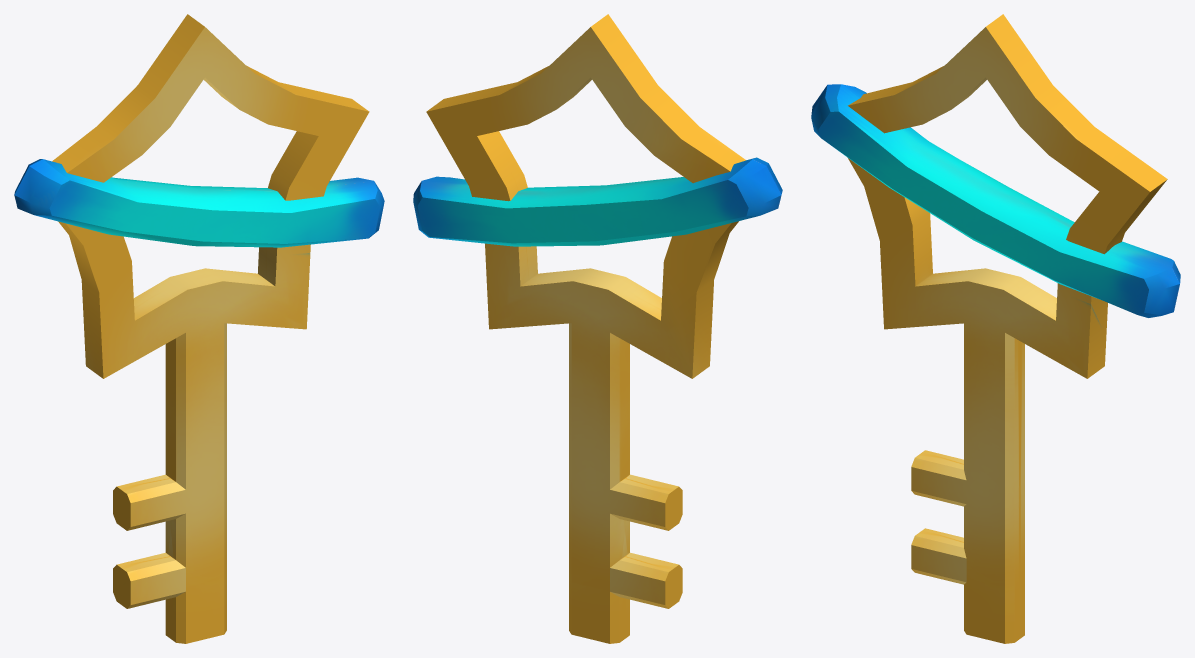
The model's file is Key.fbx.
The picture shows the model from 3 angles, left to right: view 1: azimuth 30°, elevation 25°; view 2: azimuth 150°, elevation 25°; view 3: azimuth 330°, elevation 25°; orthographic projection.
Visible parts, largest first — view 1: key; view 2: key; view 3: key.
Boxes of the visible parts, box(x1,y1,x2,y2) form: key: box(14, 14, 384, 643); key: box(413, 14, 782, 643); key: box(811, 14, 1180, 643).
Bounding box in the file's own units: 80.11 × 128 × 10.31.
Materials: 1 (1 with a texture image).
